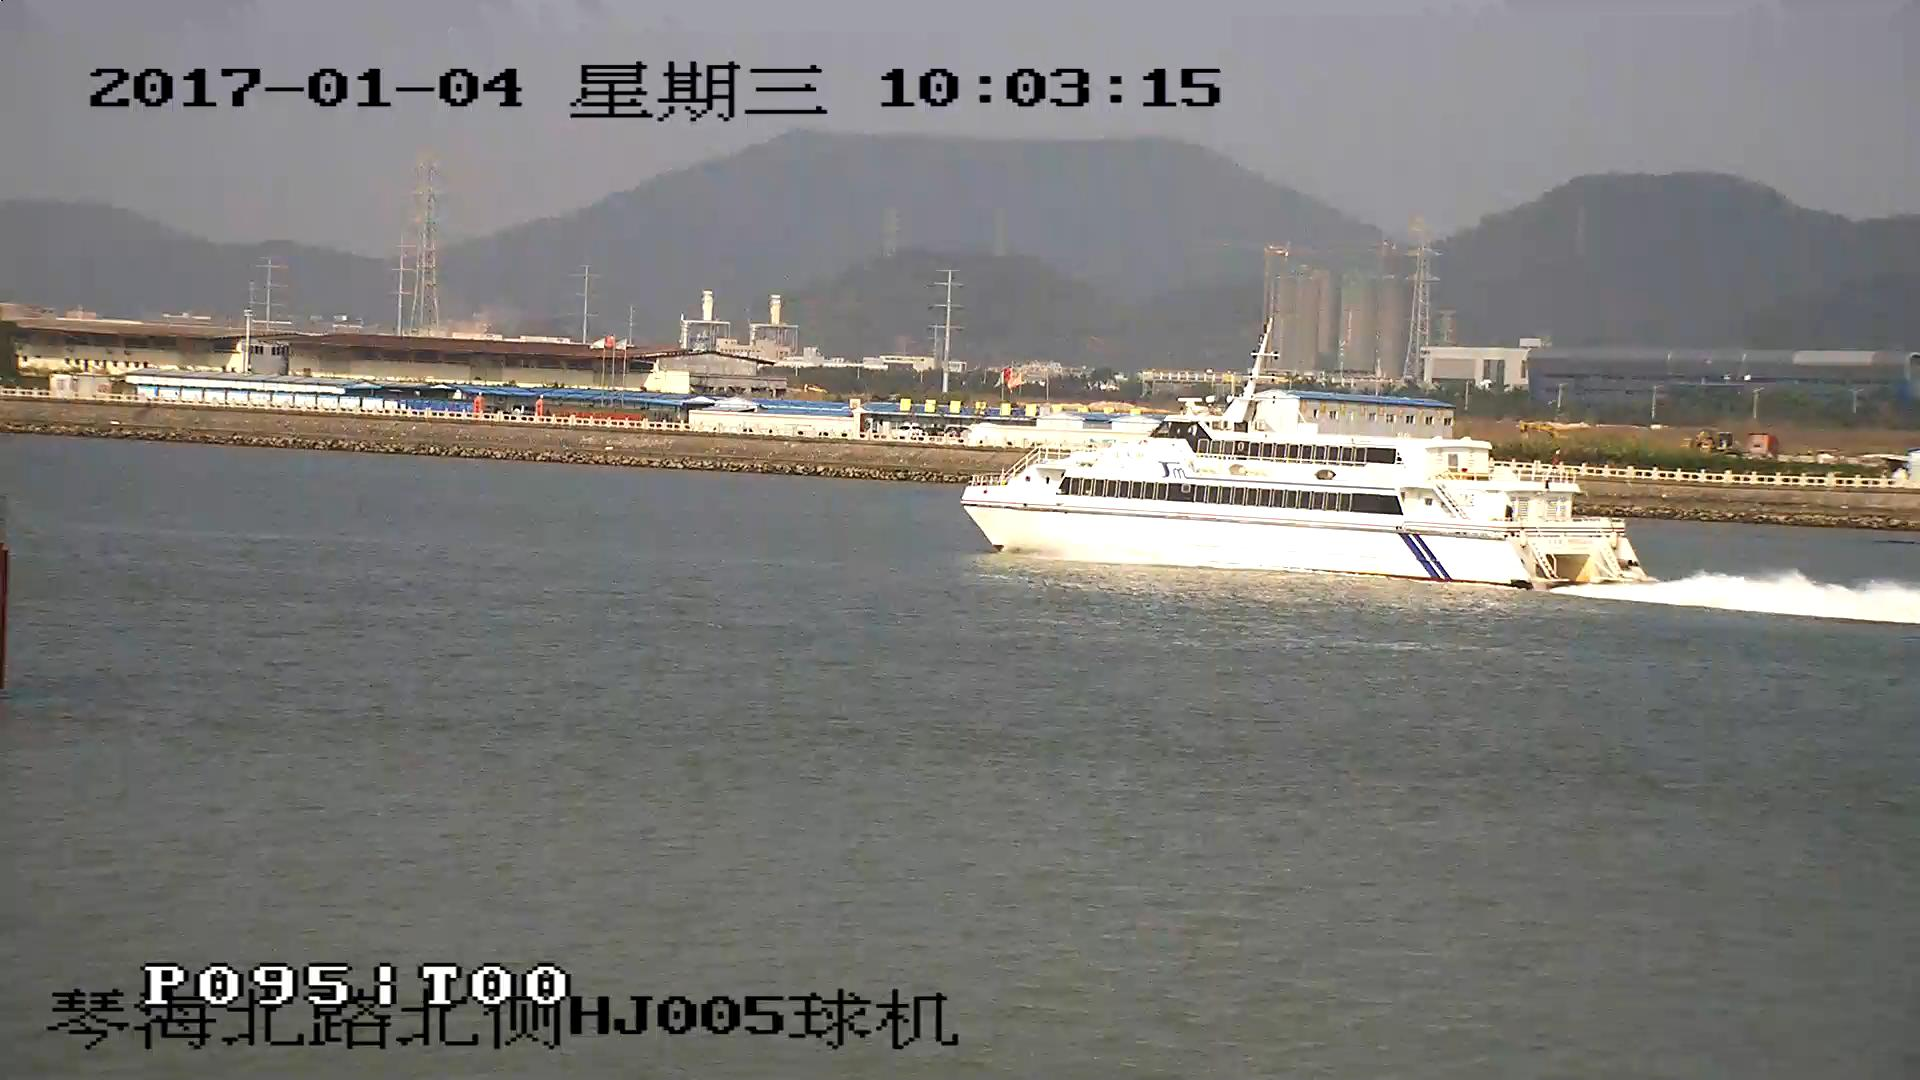passenger ship: (966, 314, 1650, 592)
